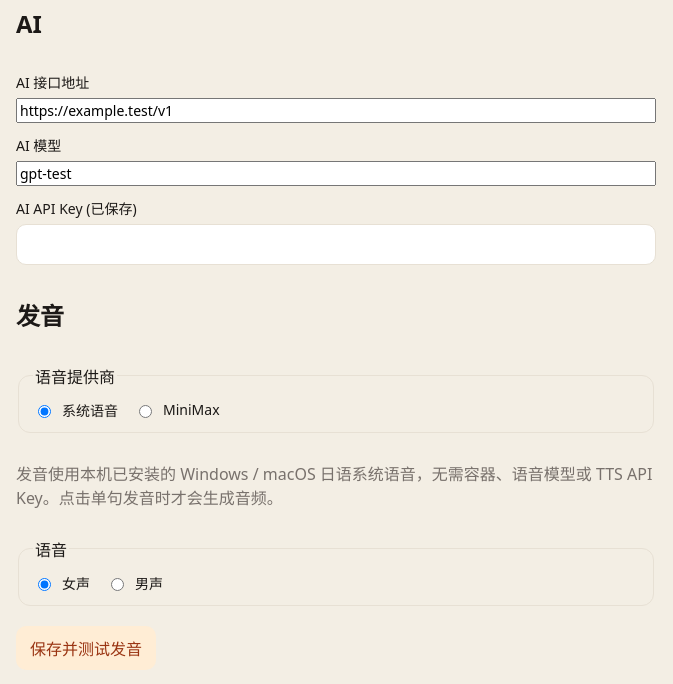
Test: settings system TTS › shows MiniMax controls only after MiniMax is selected
Step 1. Click the radio button labelled "MiniMax" → [146, 411], box [139,405,152,418]
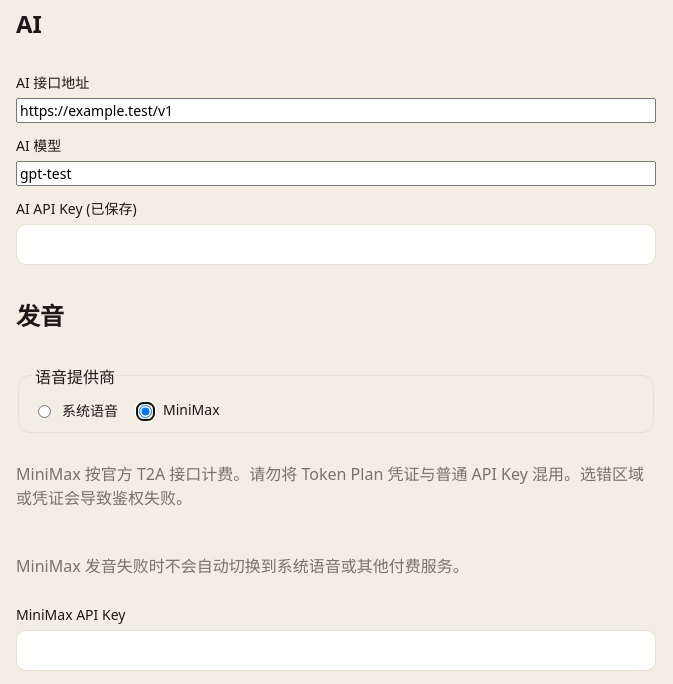
Expected: the password field labelled "MiniMax API Key" is shown, [16,630,656,671]
Expected: the text "Token Plan" is shown, [16,463,644,509]
Expected: the text "MiniMax 发音失败时不会自动切换到系统语音或其他付费服务。" is shown, [16,555,469,577]
Step 2. Click the radio button labelled "系统语音" → [44, 411], box [38,405,51,418]
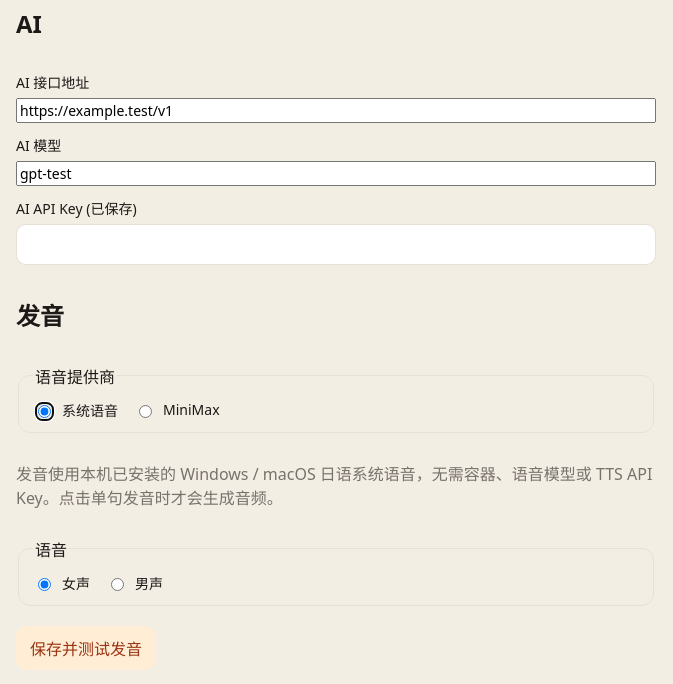
Expected: the label labelled "MiniMax API Key" is gone
Expected: the text labelled "区域" is gone
